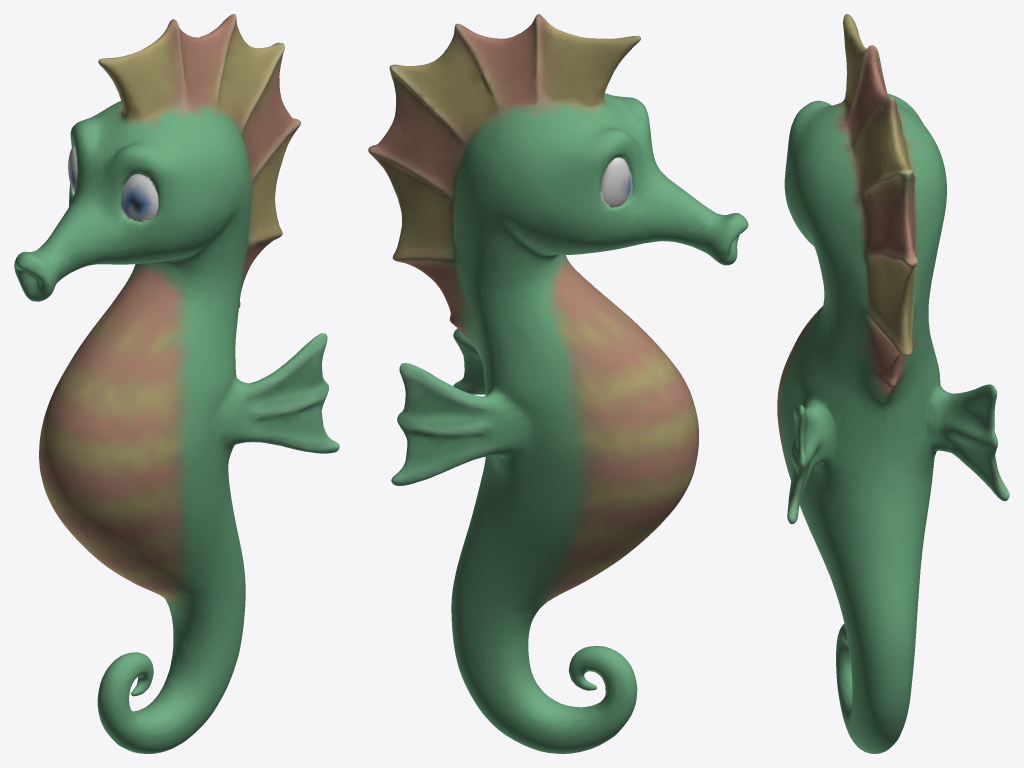
File: new_cool_seahorse123.fbx
3 renders of one model, left to right at view 1: azimuth 30°, elevation 25°; view 2: azimuth 150°, elevation 25°; view 3: azimuth 270°, elevation 25°, orthographic. The views are drawn at different scales.
Visible parts, largest first — view 1: Seahorse; view 2: Seahorse; view 3: Seahorse.
Part boxes in pixels (left/top/right/bottom): Seahorse: left=14, top=14, right=339, bottom=753; Seahorse: left=368, top=14, right=748, bottom=753; Seahorse: left=777, top=14, right=1009, bottom=753.
Size of the model in its own units: 124 by 263 by 78.26.
